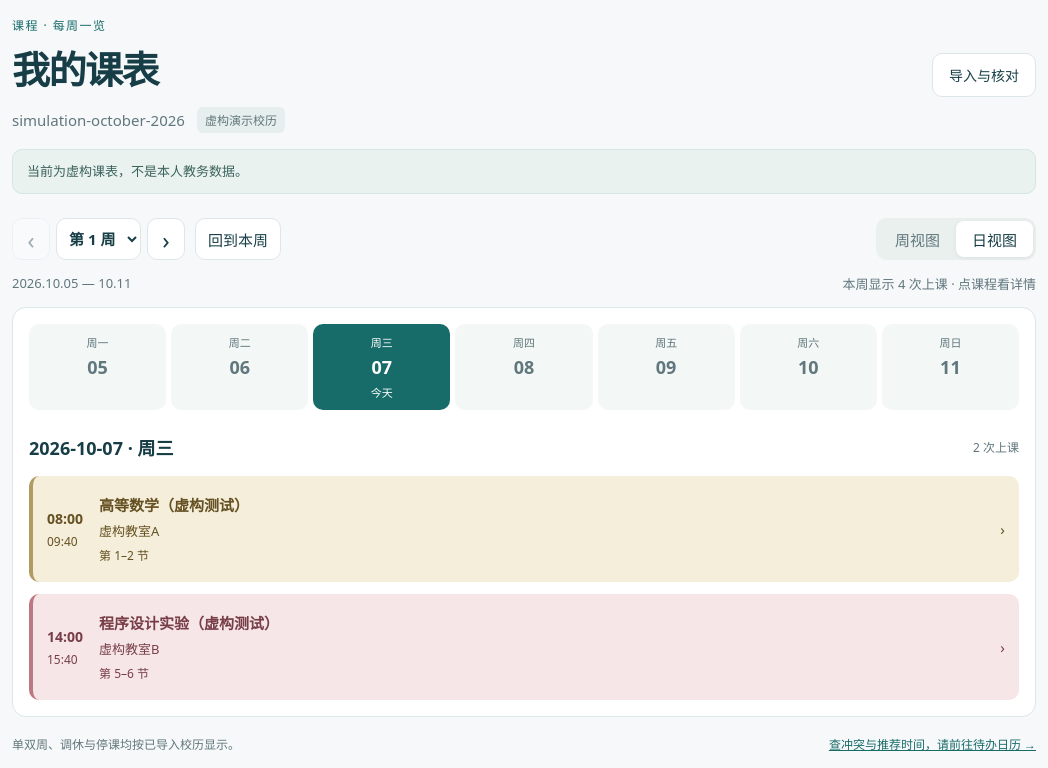
timetable interactions › defaults to daily mode on small screens; empty days do not claim availability
Expected: the element with class "tt-day-view" is shown, [12,307,1036,717]
Click the button "周一 05" at (98, 367), box [29,324,166,410]
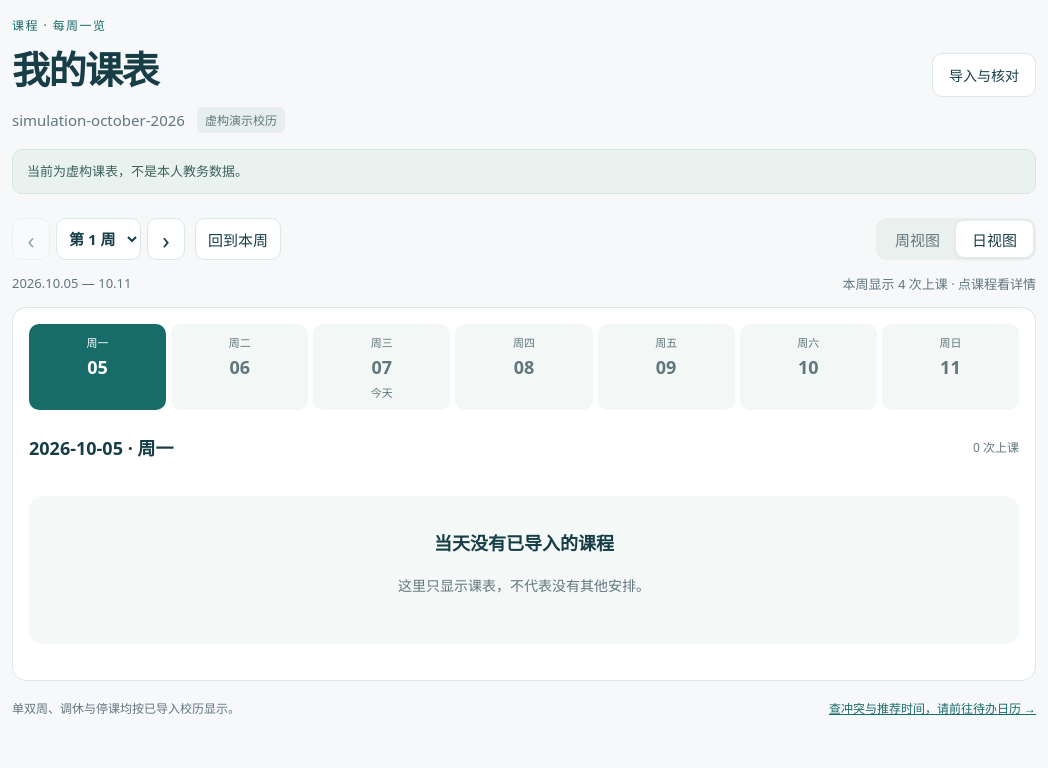
Now the text "当天没有已导入的课程" is shown, box [434,531,614,555]
Now the text "不代表没有其他安排" is shown, box [398,576,650,595]
